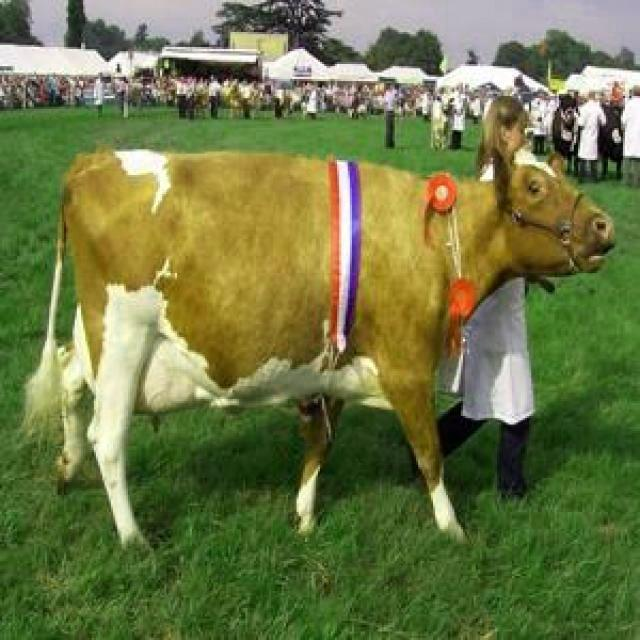cow: (26, 150, 614, 543)
